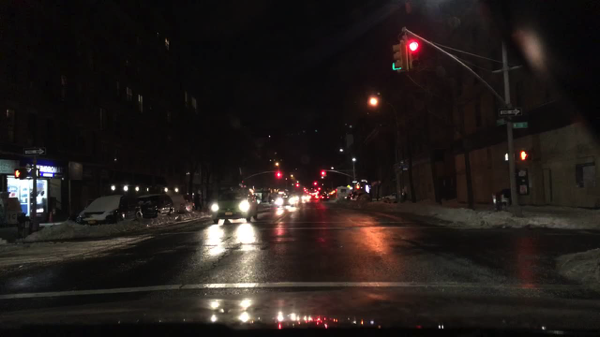bus: (334, 186, 350, 202)
car: (76, 195, 141, 225), (210, 188, 258, 223), (139, 192, 174, 220), (169, 195, 192, 213), (275, 194, 296, 206), (354, 192, 373, 202), (350, 191, 363, 201), (382, 192, 397, 200), (300, 195, 312, 202), (320, 195, 328, 200)
person: (194, 194, 202, 209)
traffic light: (405, 40, 419, 70), (390, 42, 403, 71), (517, 150, 532, 160), (14, 169, 27, 179), (31, 169, 39, 178), (504, 153, 510, 160), (322, 171, 326, 178), (355, 185, 360, 190), (277, 172, 280, 179), (314, 182, 317, 188), (296, 184, 299, 190)
traffic sign: (497, 107, 522, 117), (23, 147, 46, 156), (512, 122, 529, 129), (496, 119, 506, 126), (361, 179, 367, 183), (352, 181, 358, 184)
